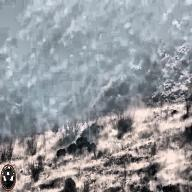boar: (55, 145, 66, 161)
